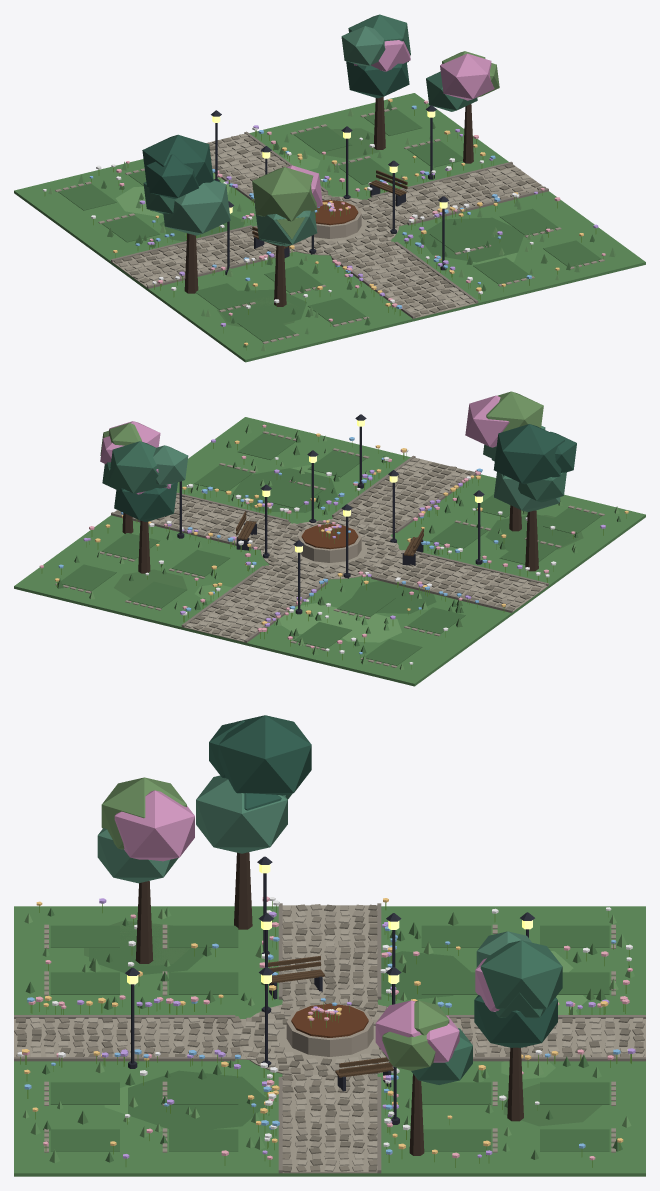
The model's file is park_C_base.glb.
3 views of the same model, one above another, from view 1: azimuth 30°, elevation 25°; view 2: azimuth 150°, elevation 25°; view 3: azimuth 270°, elevation 25° (orthographic). The views are drawn at different scales.
Parts seen in each view (by area): view 1: park_C_base; view 2: park_C_base; view 3: park_C_base.
Part boxes in pixels (x1,y1,x2,y2): park_C_base: (14, 14, 645, 362); park_C_base: (14, 391, 645, 686); park_C_base: (14, 715, 645, 1176).
Size of the model in its own units: 16.47 by 5.9 by 16.
